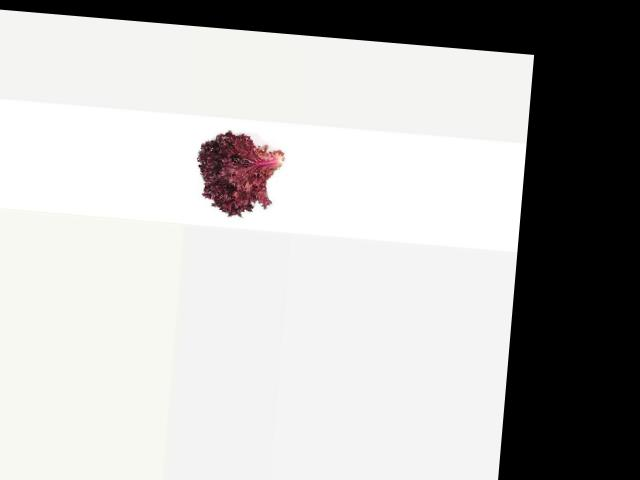lettuce: (188, 131, 294, 223)
